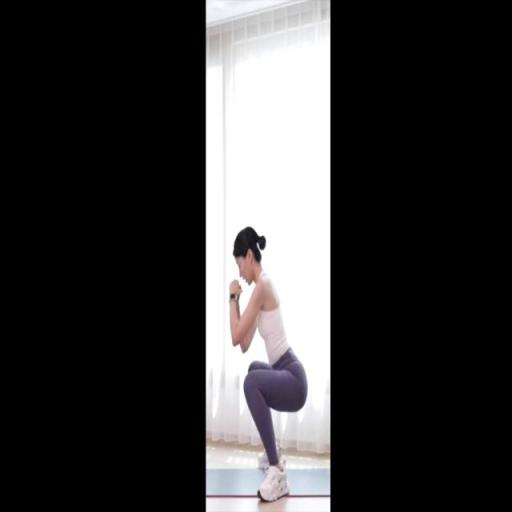Normal_BrenchPress: (228, 226, 308, 504)
